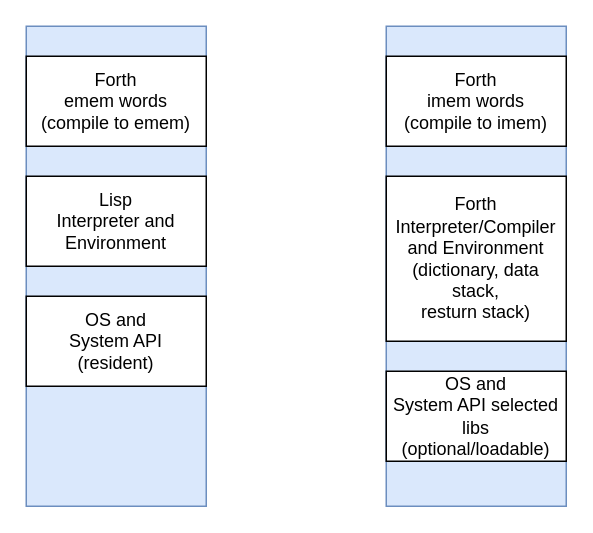
Image size: 593x533. Some labels were removed from this diagram. Here are the shapes that lost their labels. From the top down, the box of each, then its label:
(25, 25, 206, 506): EMEM (256MB)
(385, 25, 566, 506): IMEM (256KB)
